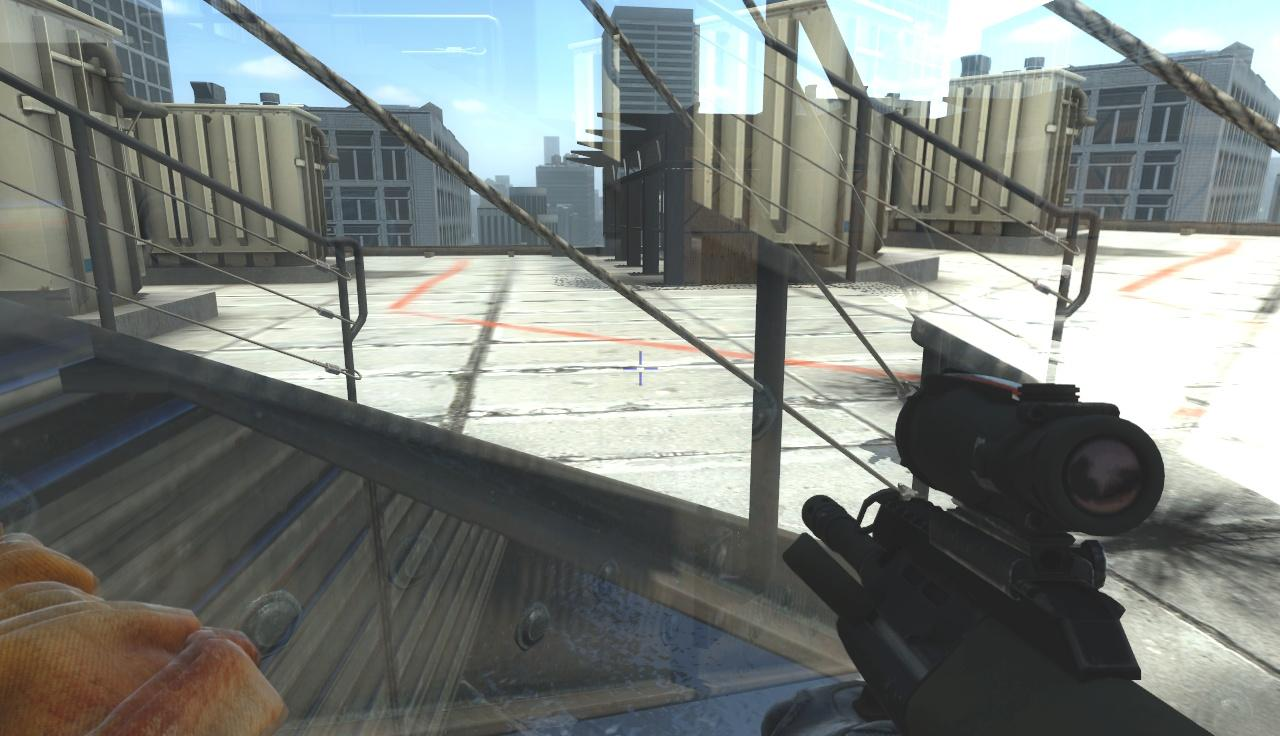rifle: (801, 365, 1214, 736)
